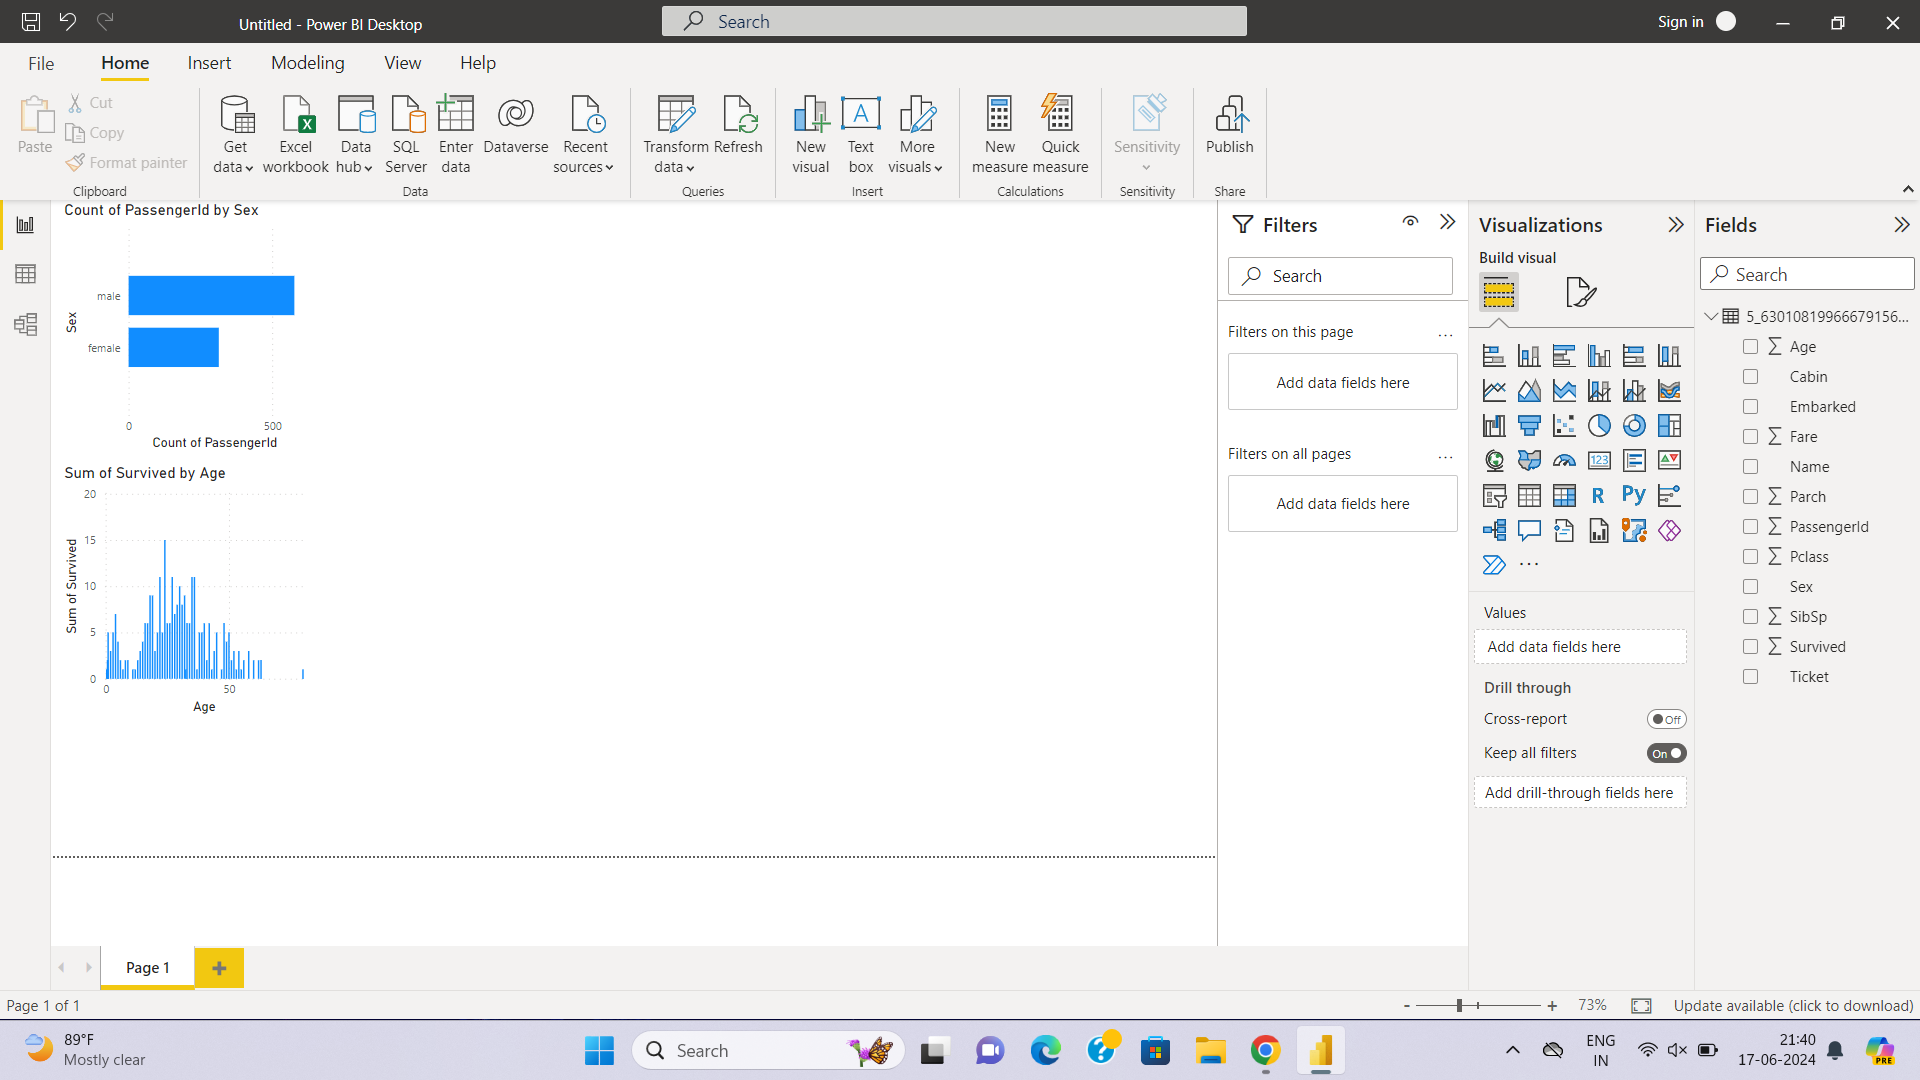

The page's visual inventory and layout, read from the dashboard file:
{"tool":"powerbi","page":{"name":"Page 1","canvas":[1280,720],"ordinal":0},"visuals":[{"type":"clusteredBarChart","fields":{"Category":["5_6301081996667915605.Sex"],"Y":["CountNonNull(5_6301081996667915605.PassengerId)"]},"box":[10,0,280,280],"z":0},{"type":"lineStackedColumnComboChart","fields":{"Category":["5_6301081996667915605.Age"],"Y":["Sum(5_6301081996667915605.Survived)"]},"box":[10,290,280,280],"z":1}]}

Visuals, with their boxes on the page's 1280x720 design canvas (x1, y1, x2, y2). These are canvas units, not pixel positions in the 1920x1080 screenshot, which may show the page scaled, cropped or inside an application window:
clusteredBarChart - 5_6301081996667915605.Sex x CountNonNull(5_6301081996667915605.PassengerId): detection(10, 0, 290, 280)
lineStackedColumnComboChart - 5_6301081996667915605.Age x Sum(5_6301081996667915605.Survived): detection(10, 290, 290, 570)
